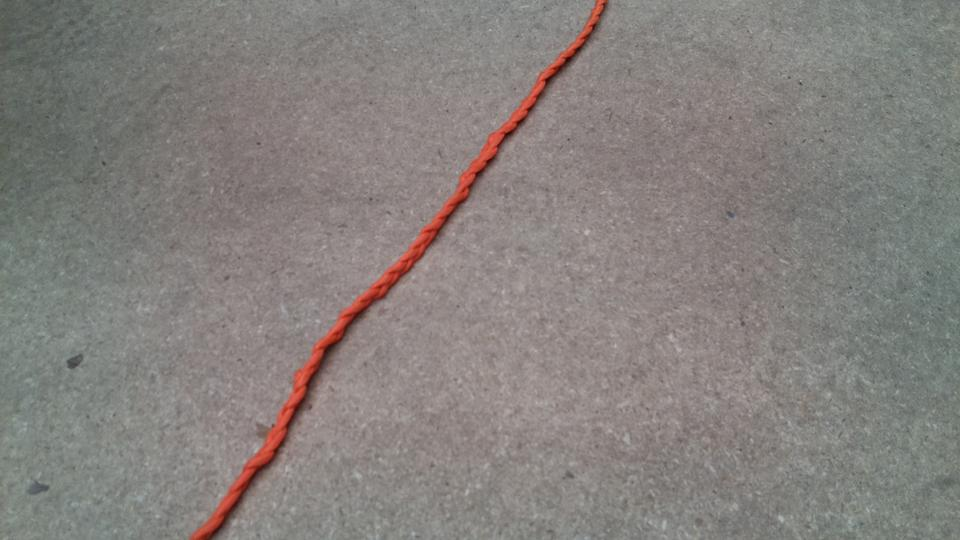rope: (183, 1, 615, 538)
